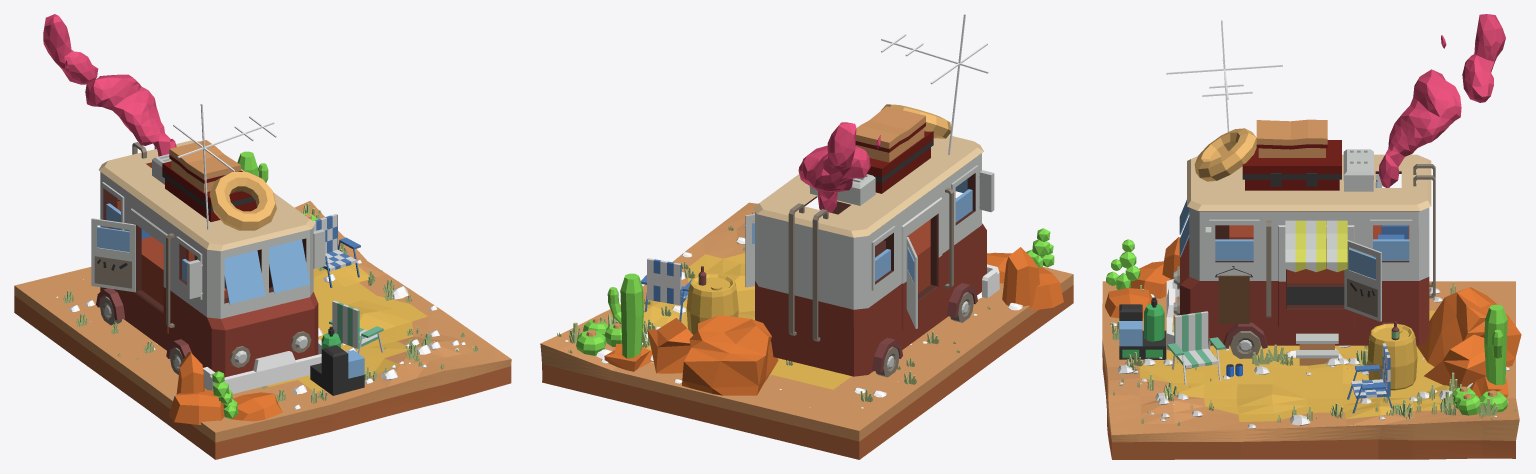
The model's file is car_house.glb.
3 views of the same model, side by side, from view 1: azimuth 30°, elevation 25°; view 2: azimuth 150°, elevation 25°; view 3: azimuth 270°, elevation 25° (orthographic). The views are drawn at different scales.
Visible parts, largest first — view 1: Cube.037_Material.004_0, Cube.001_White_0, Cube.001_red1_0, Cube_Material.016_0, Cube.001_brightYeloww_0, Cube.037_Material.006_0, Mball.007_Material.012_0, Cube_Material.004_0, Cube.001_Material.026_0, Cube.008_orange_0, Torus_Material.008_0, Cube.003__0 (+15 smaller); view 2: Cube.001_White_0, Cube.037_Material.004_0, Cube.001_red1_0, Cube.008_orange_0, Cube_Material.016_0, Cube.001_brightYeloww_0, Cube_Material.004_0, Cube.037_Material.006_0, Mball.007_Material.012_0, Cylinder.001_Material.027_0, Cube.011_brown_0, Cube.007_Material.004_0 (+12 smaller); view 3: Cube.037_Material.006_0, Cube.001_White_0, Cube.037_Material.004_0, Cube.001_red1_0, Cube.008_orange_0, Cube_Material.016_0, Cube.001_brightYeloww_0, Mball.007_Material.012_0, Cube_Material.004_0, Cube.006_Material.003_0, Cube.001_Material.026_0, Cylinder.001_Material.027_0 (+25 smaller).
Part boxes in pixels (left/top/right/bottom): Cube.037_Material.004_0: left=14, top=201, right=511, bottom=432; Cube.001_White_0: left=91, top=154, right=325, bottom=368; Cube.001_red1_0: left=100, top=287, right=318, bottom=377; Cube_Material.016_0: left=14, top=295, right=511, bottom=459; Cube.001_brightYeloww_0: left=99, top=140, right=315, bottom=251; Cube.037_Material.006_0: left=268, top=263, right=427, bottom=391; Mball.007_Material.012_0: left=43, top=14, right=176, bottom=156; Cube_Material.004_0: left=14, top=285, right=511, bottom=442; Cube.001_Material.026_0: left=97, top=203, right=309, bottom=304; Cube.008_orange_0: left=169, top=352, right=282, bottom=424; Torus_Material.008_0: left=209, top=172, right=276, bottom=230; Cube.003__0: left=203, top=339, right=321, bottom=393; Cube.001_White_0: left=745, top=153, right=994, bottom=368; Cube.037_Material.004_0: left=540, top=202, right=1073, bottom=430; Cube.001_red1_0: left=755, top=223, right=986, bottom=376; Cube.008_orange_0: left=604, top=247, right=1063, bottom=395; Cube_Material.016_0: left=542, top=271, right=1073, bottom=459; Cube.001_brightYeloww_0: left=753, top=135, right=983, bottom=237; Cube_Material.004_0: left=540, top=274, right=1073, bottom=441; Cube.037_Material.006_0: left=643, top=253, right=850, bottom=389; Mball.007_Material.012_0: left=798, top=122, right=880, bottom=212; Cylinder.001_Material.027_0: left=576, top=273, right=643, bottom=358; Cube.011_brown_0: left=788, top=188, right=953, bottom=341; Cube.007_Material.004_0: left=855, top=106, right=925, bottom=162; Cube.037_Material.006_0: left=1139, top=310, right=1455, bottom=421; Cube.001_White_0: left=1173, top=149, right=1429, bottom=351; Cube.037_Material.004_0: left=1102, top=281, right=1519, bottom=434; Cube.001_red1_0: left=1180, top=237, right=1429, bottom=345; Cube.008_orange_0: left=1105, top=237, right=1521, bottom=398; Cube_Material.016_0: left=1102, top=351, right=1515, bottom=459; Cube.001_brightYeloww_0: left=1187, top=154, right=1431, bottom=211; Mball.007_Material.012_0: left=1379, top=14, right=1505, bottom=187; Cube_Material.004_0: left=1102, top=340, right=1519, bottom=442; Cube.006_Material.003_0: left=1242, top=140, right=1341, bottom=190; Cube.001_Material.026_0: left=1179, top=181, right=1409, bottom=279; Cylinder.001_Material.027_0: left=1452, top=304, right=1507, bottom=415.
Size of the model in its own units: 1.79 by 1.67 by 2.
